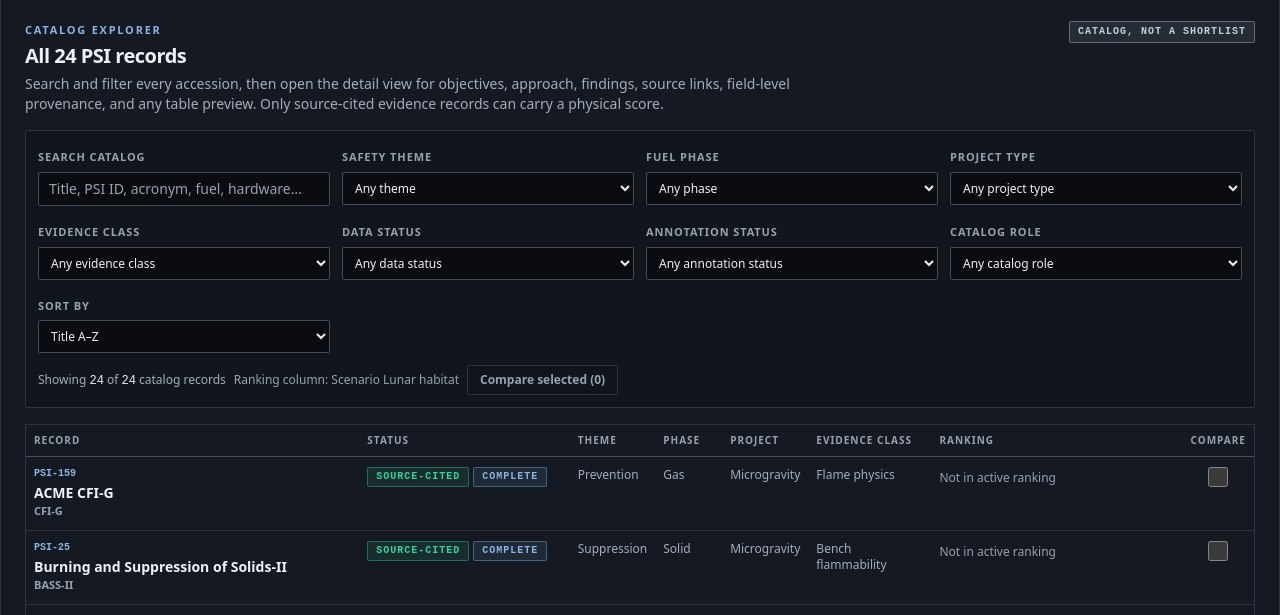
Scenario: CatalogExplorer — search › matches objectives text for metadata-only records once loaded
The image size is (1280, 615).
Step 1. Type "H1 annotation package" into the search field labelled "Search catalog" → (184, 189), box [38,172,330,206]
(page scrolled)
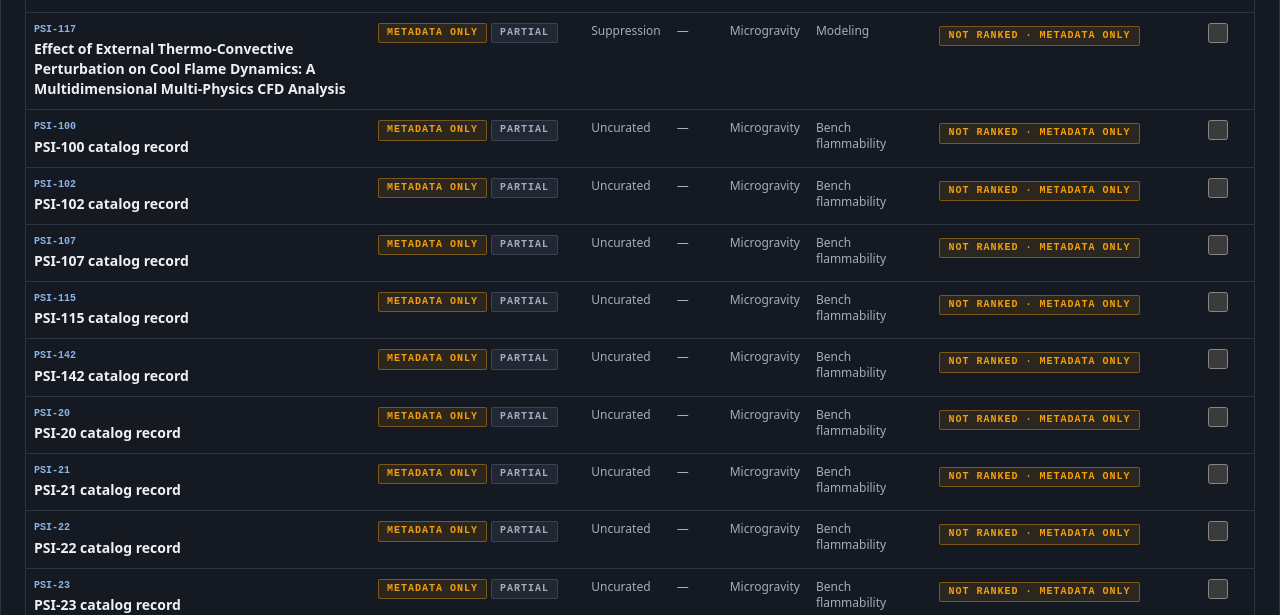
Check: the text "PSI-142" is shown, box [34,350,76,361]
Check: the button "PSI-25" is gone
